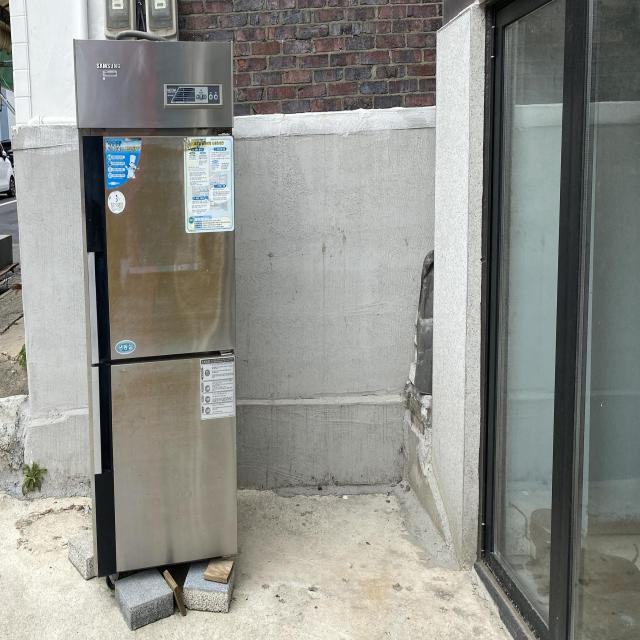refrigerator: (72, 36, 240, 581)
